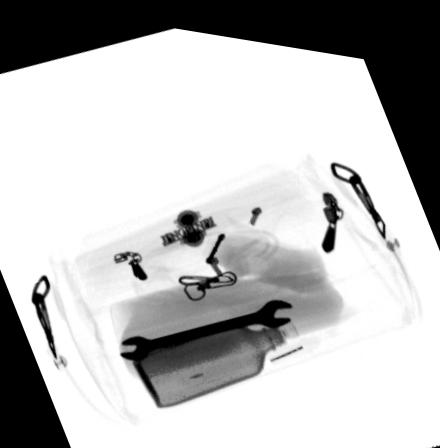Wrench: (117, 288, 295, 358)
